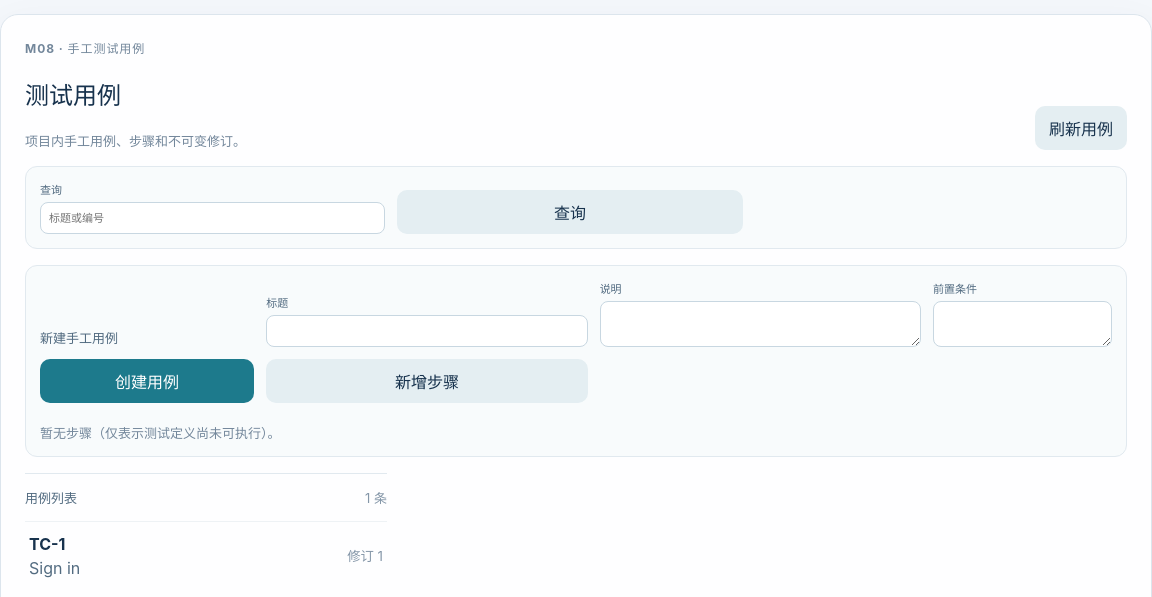
it: TestCasesPanel › preserves complete step draft on a stale-version response
Click the button "TC-1 Sign in 修订 1" at [47, 544], box [25,521,387,590]
(page scrolled)
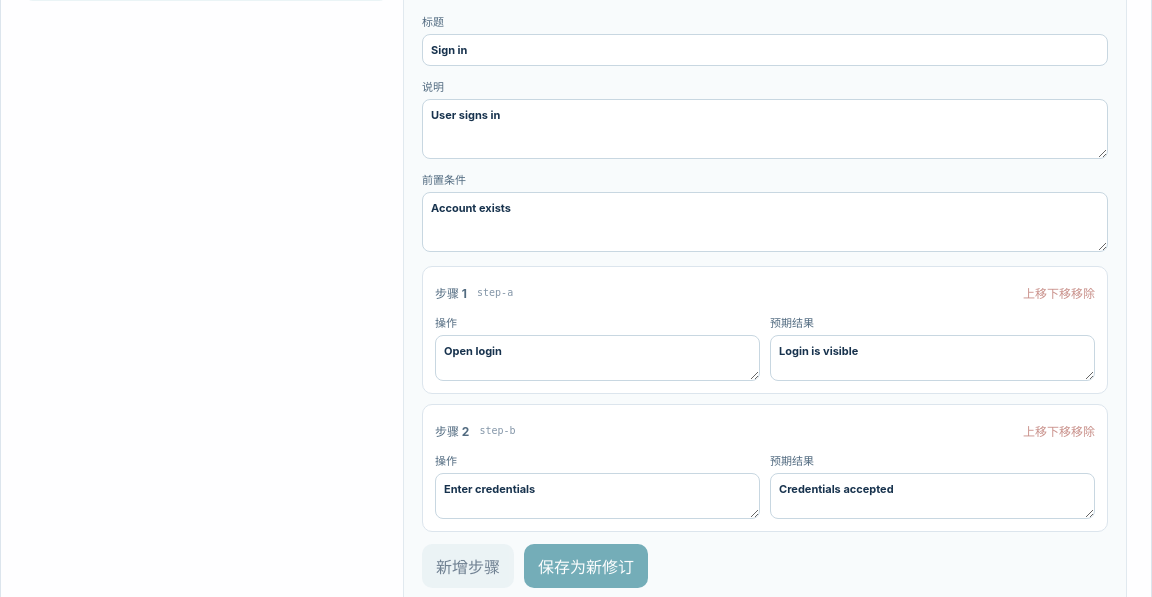
Expected: the text box showing "Open login" below "step-a" is shown
Replace the text in the text box named "步骤 1 操作" with "Keep this step draft" at [598, 358], box [435,335,760,381]
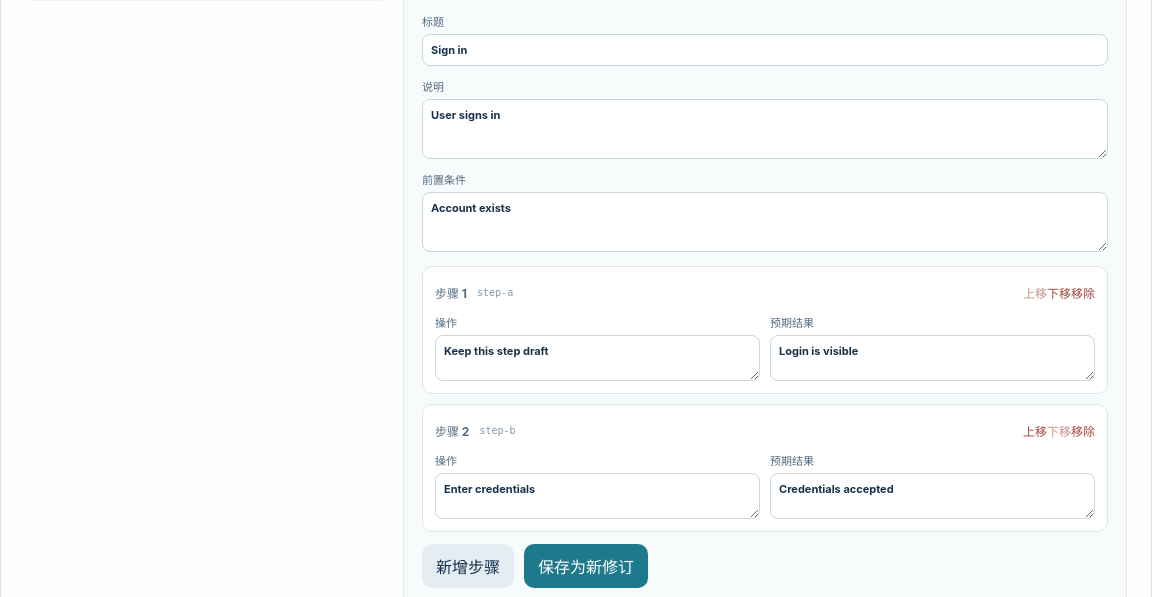
Click the button "保存为新修订" at [586, 566], box [524,544,648,588]
(page scrolled)
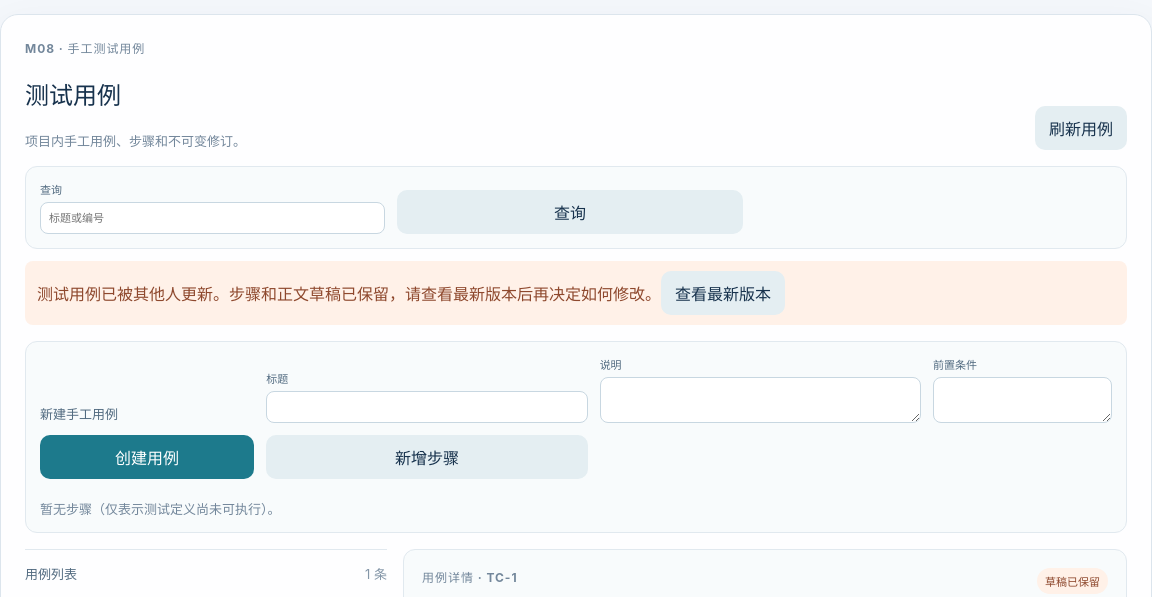
Expected: the message shows "草稿已保留", [37,284,661,304]
Expected: the button "查看最新版本" is shown, [661,271,785,315]
